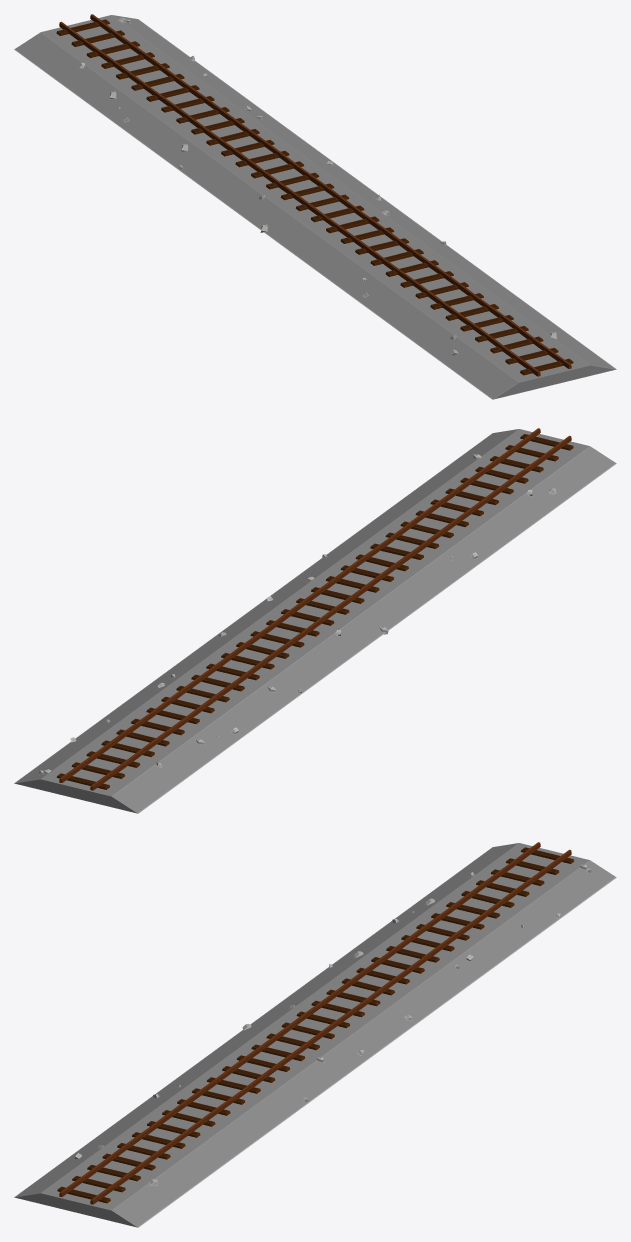
Rendered from TrainTracks.5a37b0e6.glb.
3 views of the same model, one above another, from view 1: azimuth 30°, elevation 25°; view 2: azimuth 150°, elevation 25°; view 3: azimuth 330°, elevation 25° (orthographic).
Visible parts, largest first — view 1: rail-straight-bottom.001; view 2: rail-straight-bottom.001; view 3: rail-straight-bottom.001.
Boxes of the visible parts, x1,y1,x2,y2 form: rail-straight-bottom.001: [14, 14, 616, 399]; rail-straight-bottom.001: [14, 428, 616, 813]; rail-straight-bottom.001: [14, 842, 616, 1227].
Size of the model in its own units: 24.31 by 3.36 by 160.
Materials: 1 (1 with a texture image).
